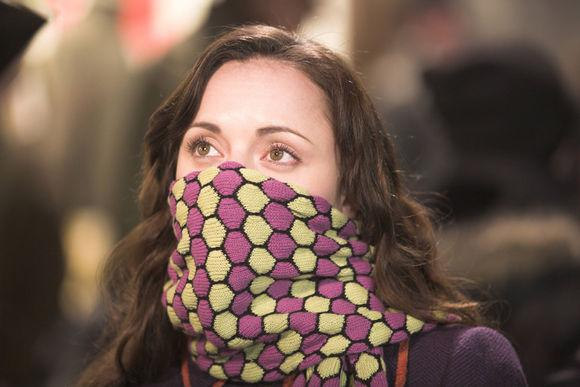OK: (162, 118, 325, 281)
